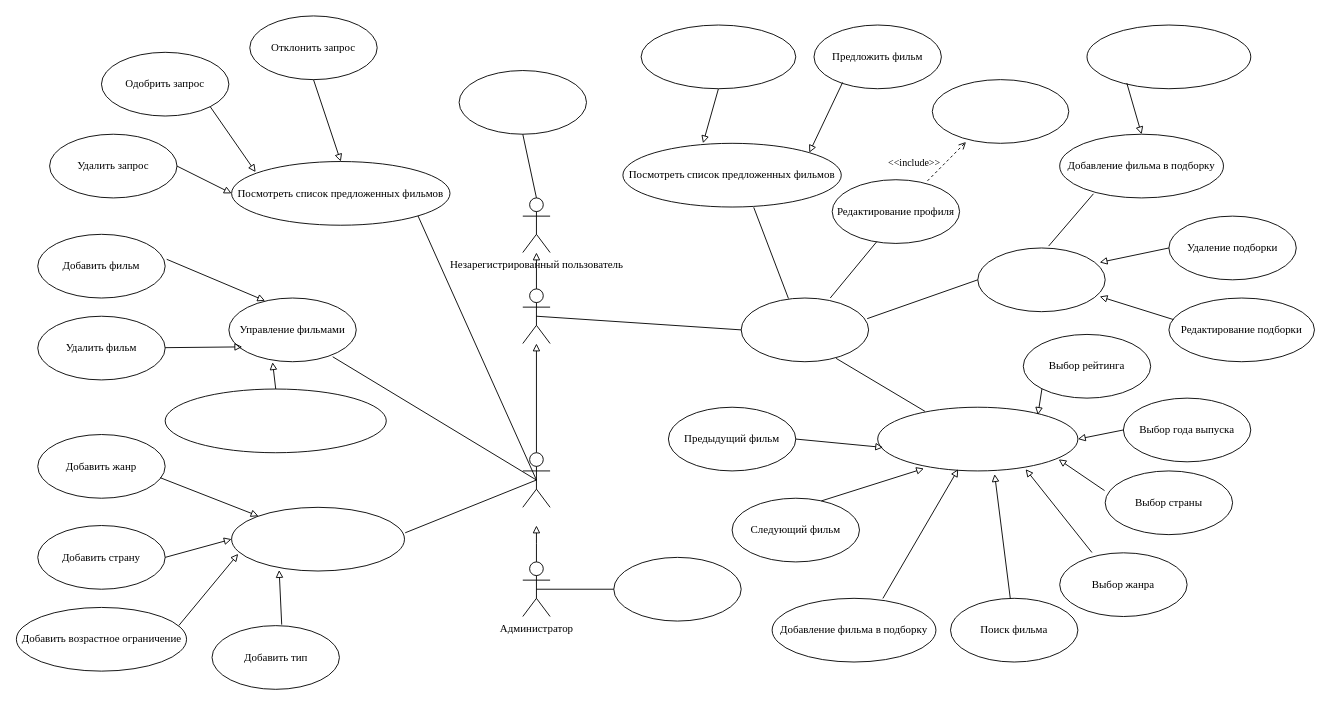
This 1330x705 diagram has some shape labels left out. Each missing label, with the box of its shape:
Авторизация/выход: (740, 297, 869, 362)
Выдача прав: (613, 556, 741, 621)
Зарегистрированный пользователь: (522, 288, 550, 344)
Модератор: (522, 452, 550, 507)
Просмотр страницы с рекомендациями: (877, 406, 1078, 471)
Просмотреть список фильмов в базе данных: (164, 388, 386, 453)
Регистрация: (458, 70, 586, 134)
Создание подборки: (977, 247, 1105, 312)
Сохранение изменений: (931, 79, 1069, 143)
Удаление фильма из подборки: (1086, 24, 1251, 89)
Удалить предложение фильма: (640, 24, 796, 89)
Управление характеристиками: (231, 506, 404, 571)
